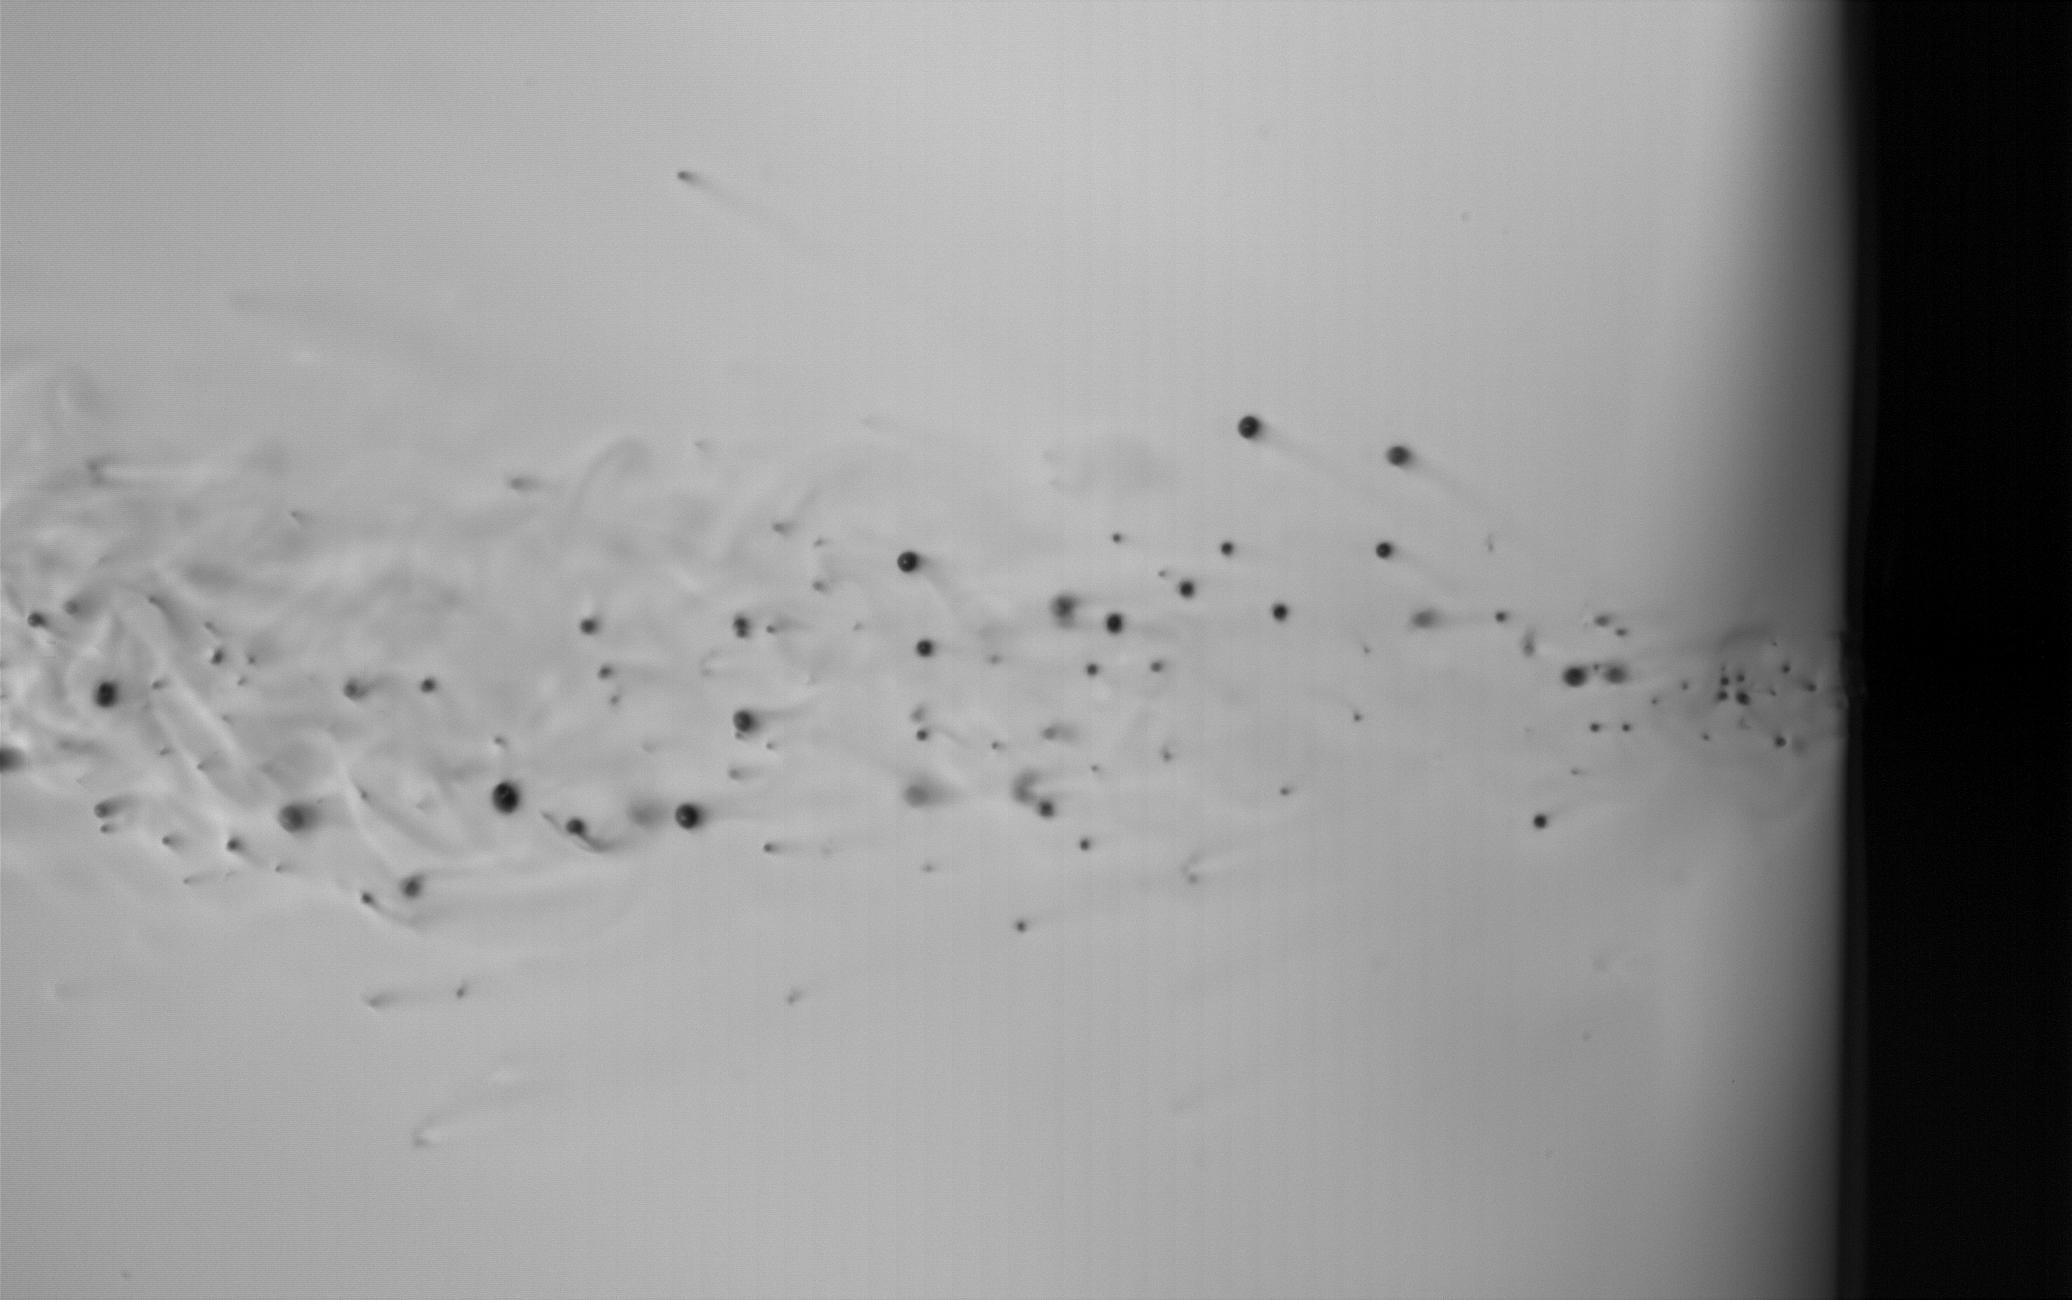Blurry: (898, 773, 969, 815), (337, 669, 388, 708), (1037, 722, 1087, 753), (1403, 605, 1445, 635), (1517, 622, 1539, 663), (1156, 744, 1177, 768), (487, 732, 508, 753), (808, 578, 828, 599)
ClassicalEvaporation: (1046, 586, 1078, 625), (485, 779, 521, 810), (275, 801, 305, 834), (91, 672, 118, 707), (1235, 413, 1261, 440), (894, 548, 919, 574), (674, 803, 698, 830), (1033, 798, 1055, 827), (1385, 443, 1409, 467), (1561, 666, 1587, 689), (731, 616, 752, 643), (731, 708, 753, 732), (1103, 610, 1124, 634), (913, 637, 934, 659), (1603, 662, 1624, 684), (401, 878, 421, 902), (576, 614, 594, 640), (1267, 601, 1288, 622), (418, 678, 439, 698), (1177, 580, 1196, 601), (1374, 541, 1392, 562), (91, 800, 109, 818), (1532, 813, 1547, 834), (1216, 539, 1232, 557), (1084, 660, 1100, 677), (1076, 837, 1091, 855), (1148, 659, 1163, 674), (1737, 690, 1749, 707), (1017, 920, 1029, 935), (225, 839, 238, 851), (1594, 614, 1606, 628), (597, 666, 611, 677), (1618, 720, 1629, 732), (1780, 663, 1791, 675), (762, 842, 773, 854), (1277, 786, 1288, 797), (1494, 613, 1505, 623), (1773, 737, 1783, 747), (1111, 532, 1121, 542), (1717, 689, 1728, 699), (1734, 671, 1744, 681), (915, 731, 925, 741), (1588, 723, 1599, 734), (1720, 674, 1731, 684), (1350, 711, 1361, 722), (988, 740, 999, 750), (674, 171, 684, 181), (362, 894, 371, 905), (162, 834, 171, 845)
DiffusiveMixing: (561, 815, 633, 866)
TransitionalMixing: (1011, 765, 1040, 813)
